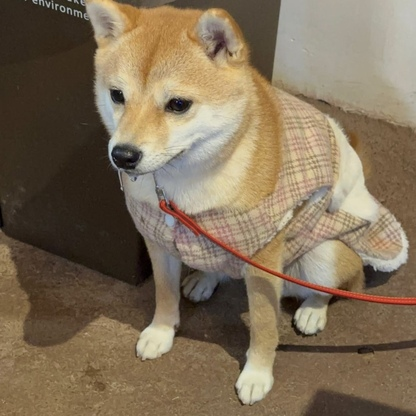shiba: (74, 1, 390, 408)
